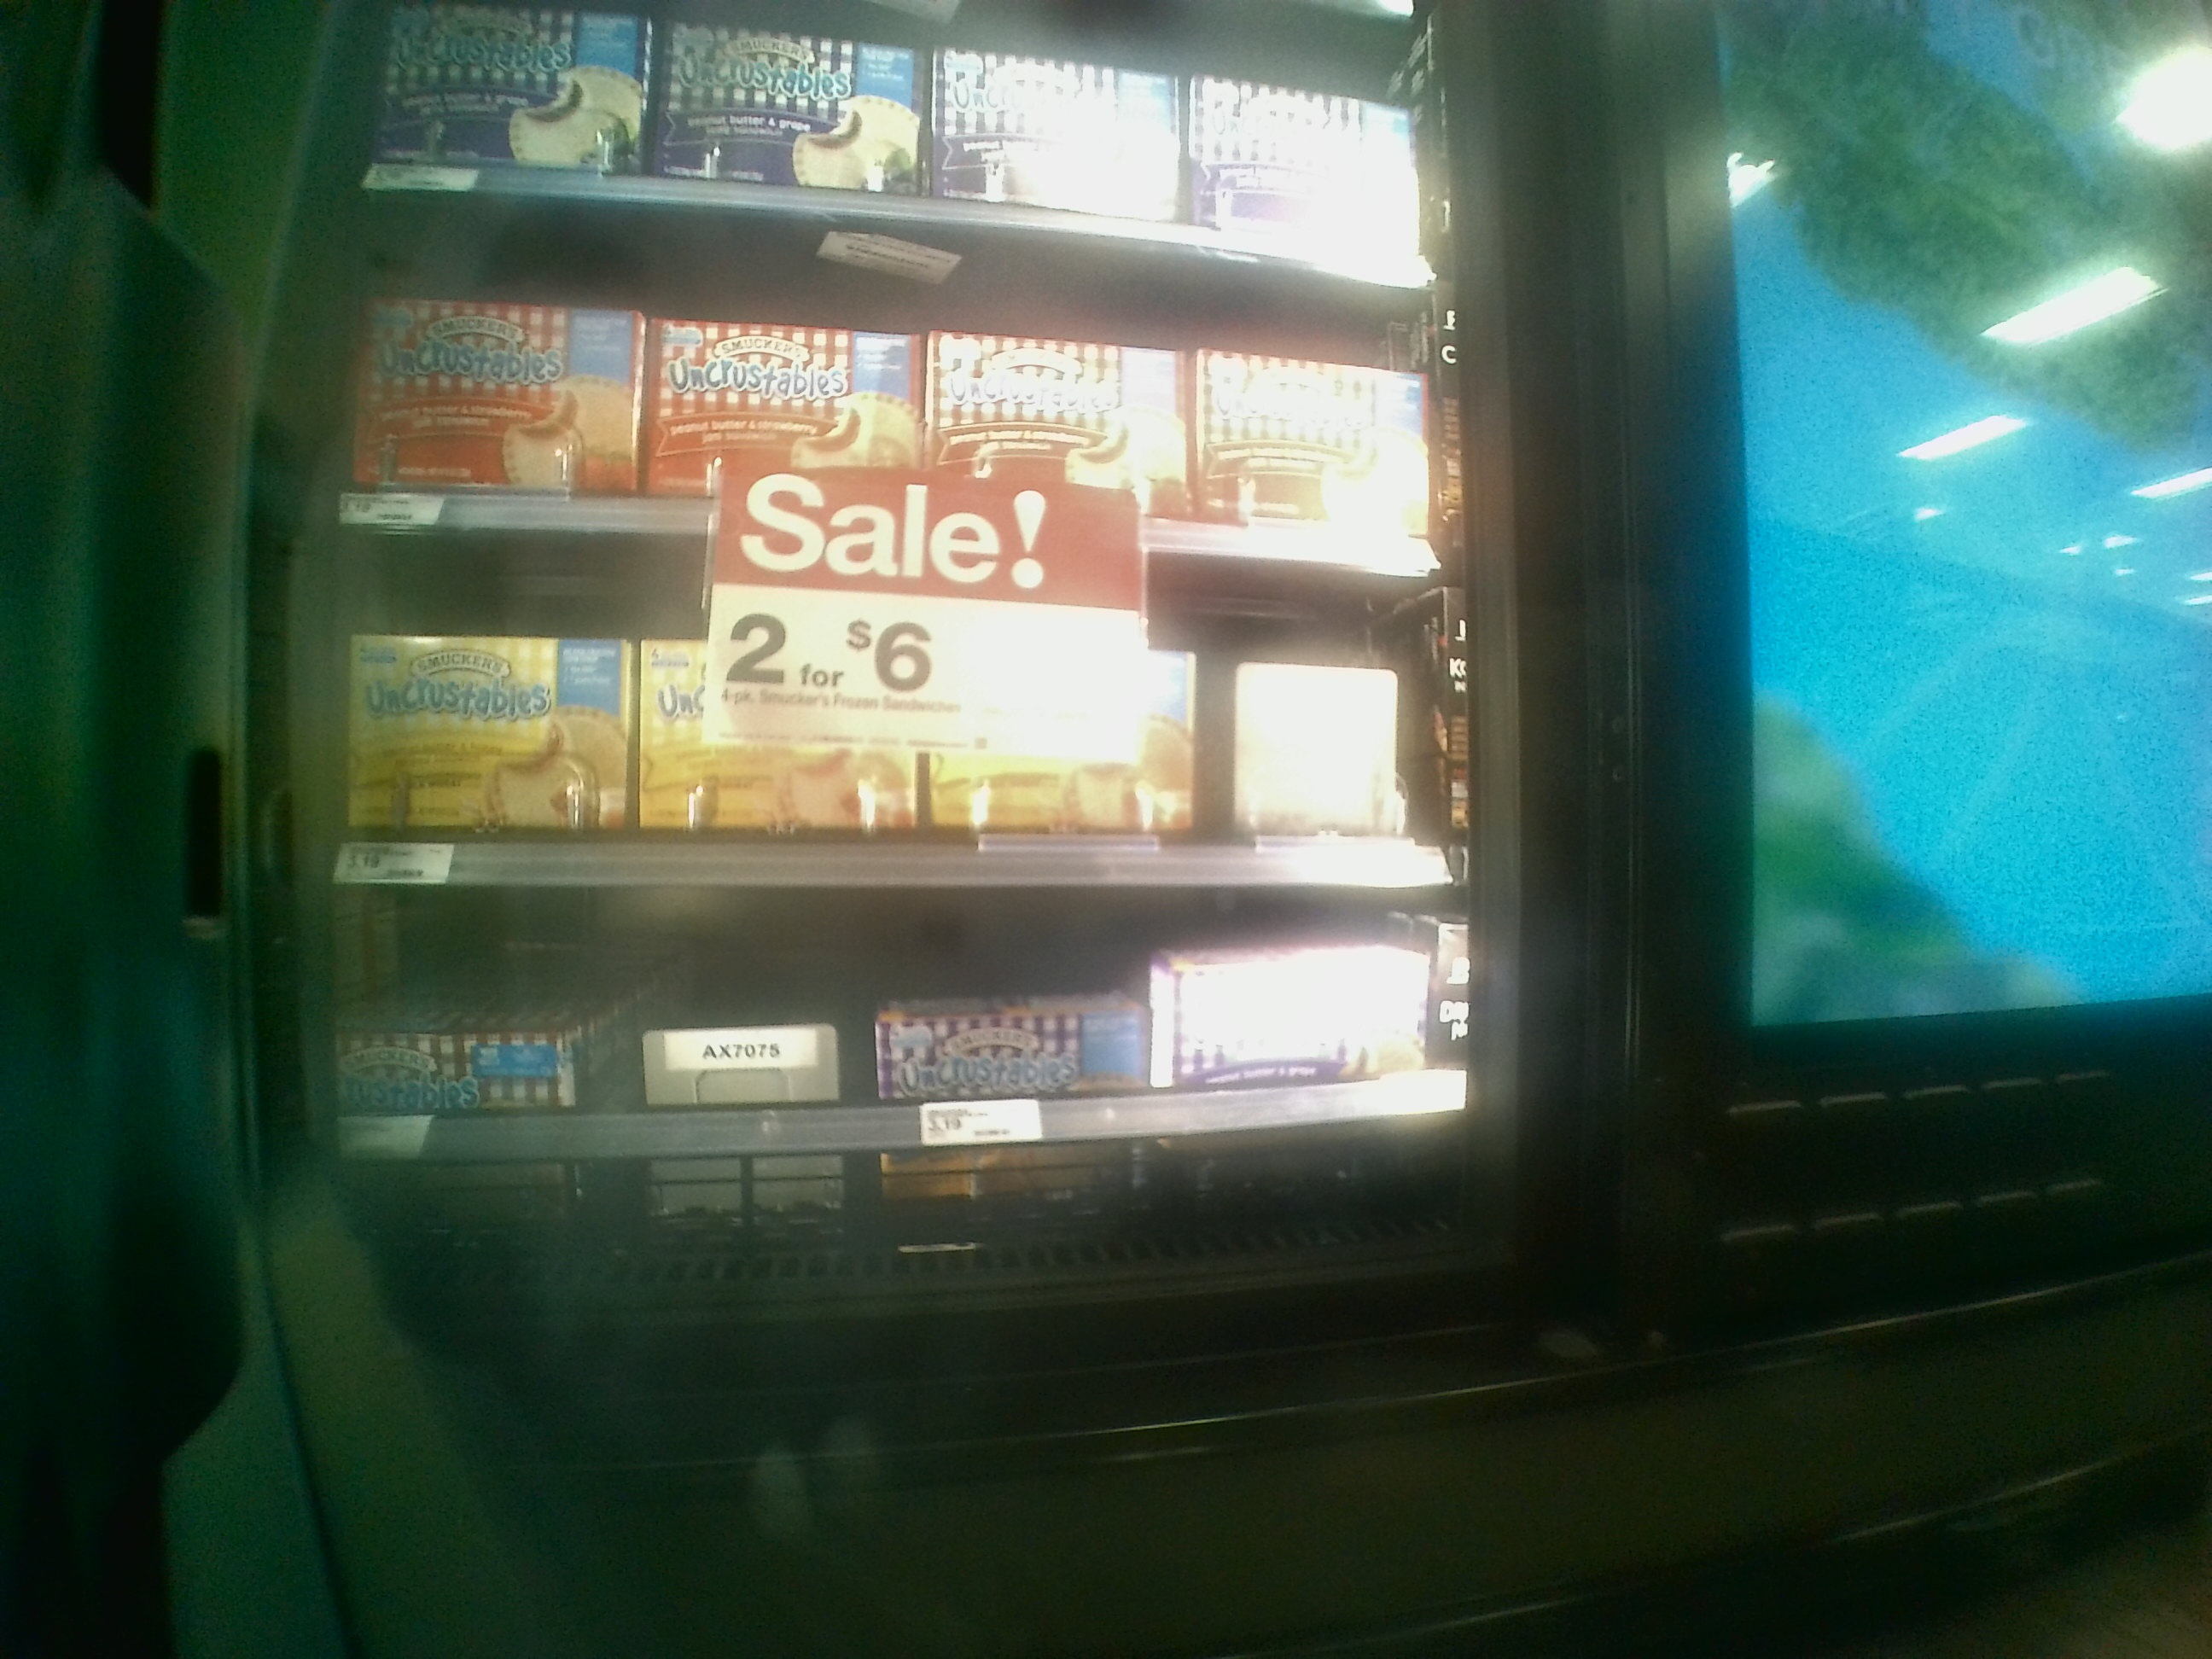shelf: (270, 875, 1507, 1344), (336, 181, 1460, 584), (298, 545, 1460, 878)
